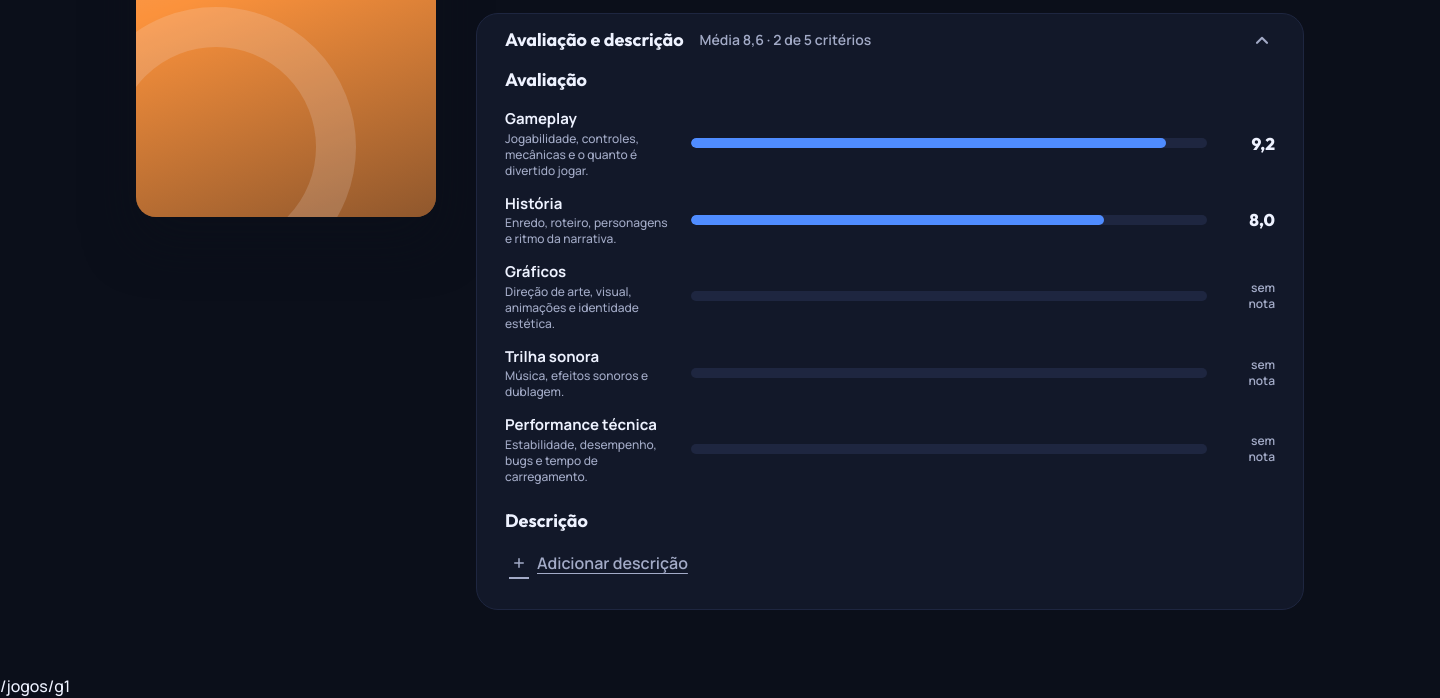
Test case: descrição (CA-26) › sem descrição mostra o convite "Adicionar descrição", que abre o formulário
(page scrolled)
Click the button "Adicionar descrição" at [598, 562], box [505,540,692,584]
(page scrolled)
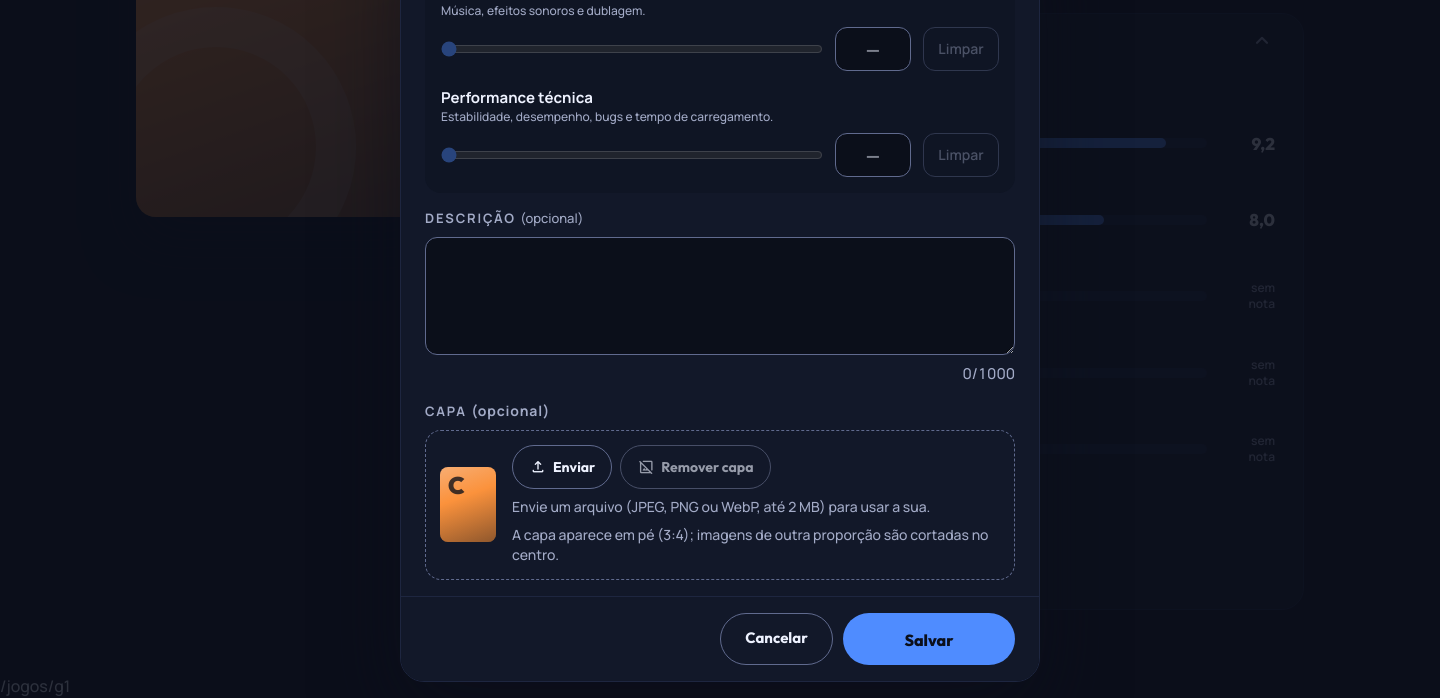
Expected: the text box labelled "Descrição (opcional)" is shown, [425,236,1015,354]
